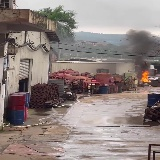fire: (140, 70, 151, 82)
